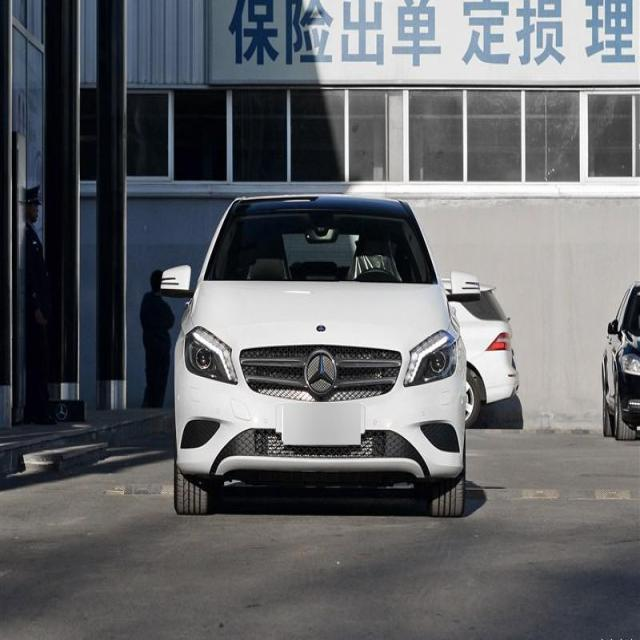front_bumper: (173, 372, 466, 480)
front_glass: (204, 195, 438, 286)
front_left_side_light: (402, 327, 459, 393)
front_left_side_mirror: (440, 268, 484, 304)
front_right_side_light: (182, 324, 240, 387)
front_right_side_mirror: (152, 258, 197, 302)
